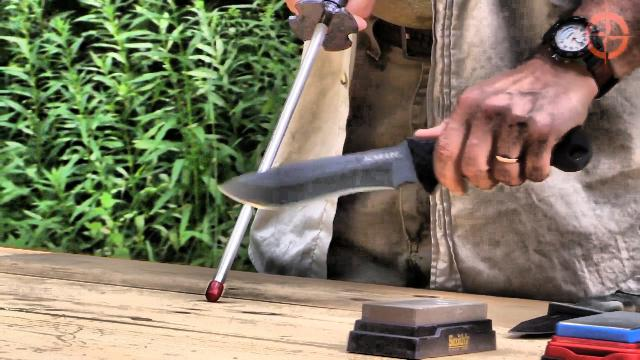knife: (205, 122, 599, 218)
